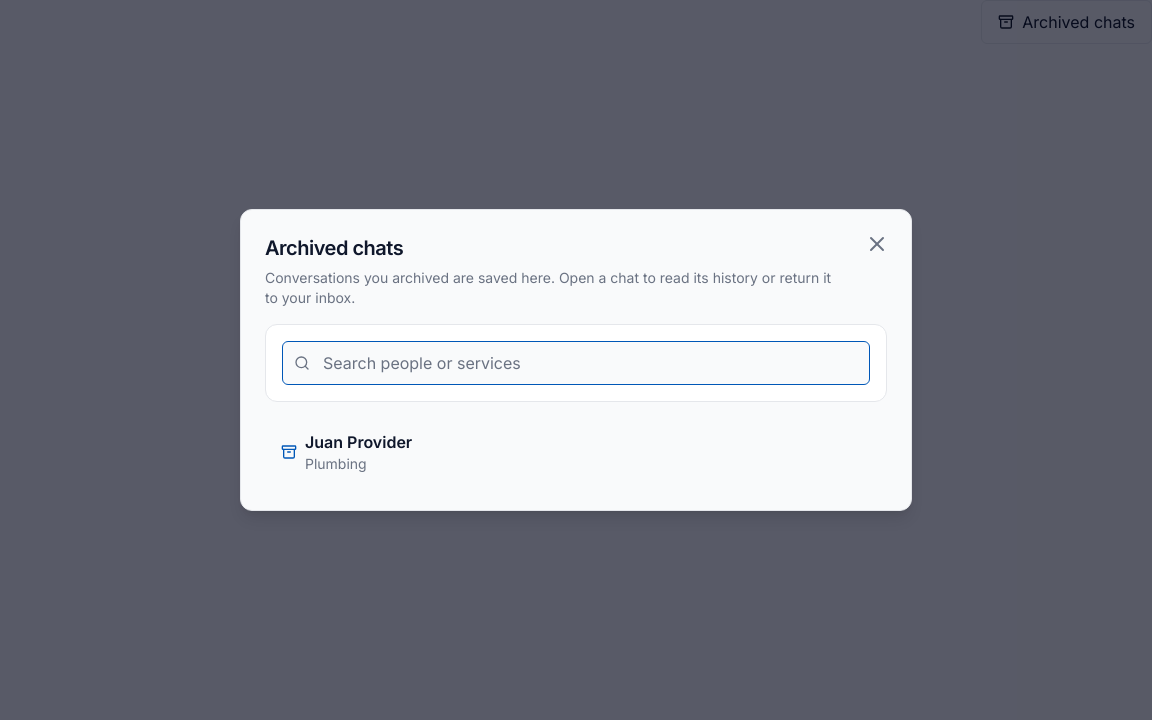
it: archived chats browser › restores the archive from its URL and supports search
Check: the button "Juan Provider Plumbing" is shown, box [265,418,887,486]
Type "tutor" into the search field named "Search archived chats" at point(576, 363), box [282,341,870,385]
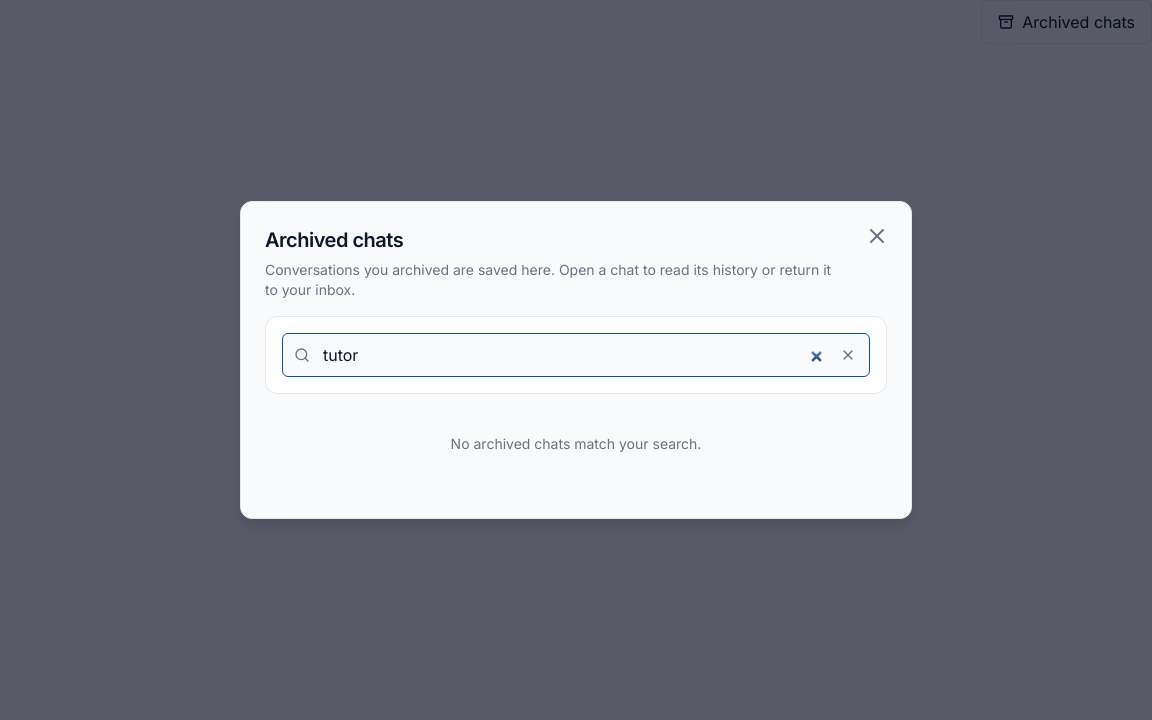
Check: the text "No archived chats match your search." is shown, box [451,435,701,452]
